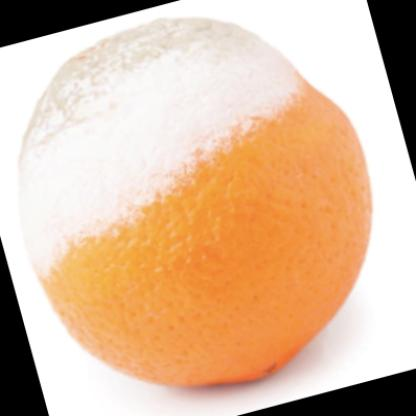rotten: (18, 18, 373, 385)
